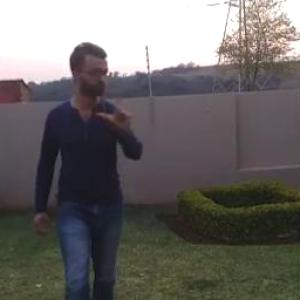land_hand: (96, 79, 136, 130)
